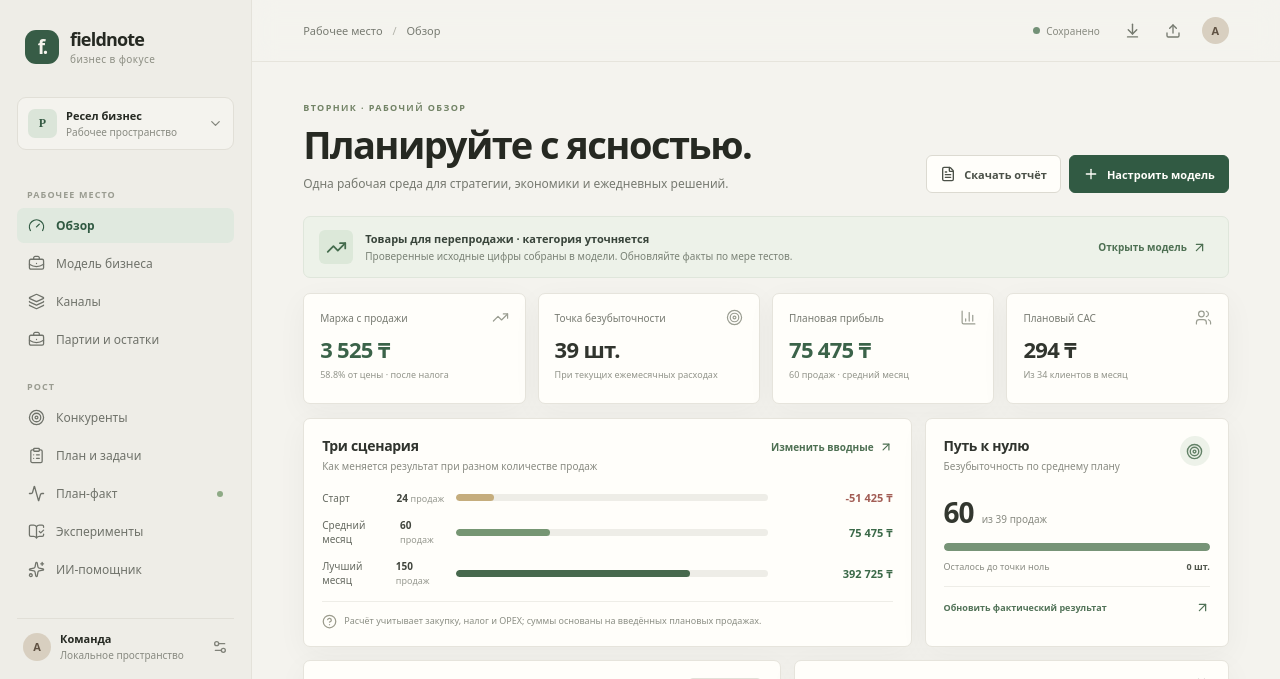
it: FIELDNOTE workspace › opens the resale inventory and shows no fabricated stock figures
Click the button "Партии и остатки": (126, 340) [17,322,234,357]
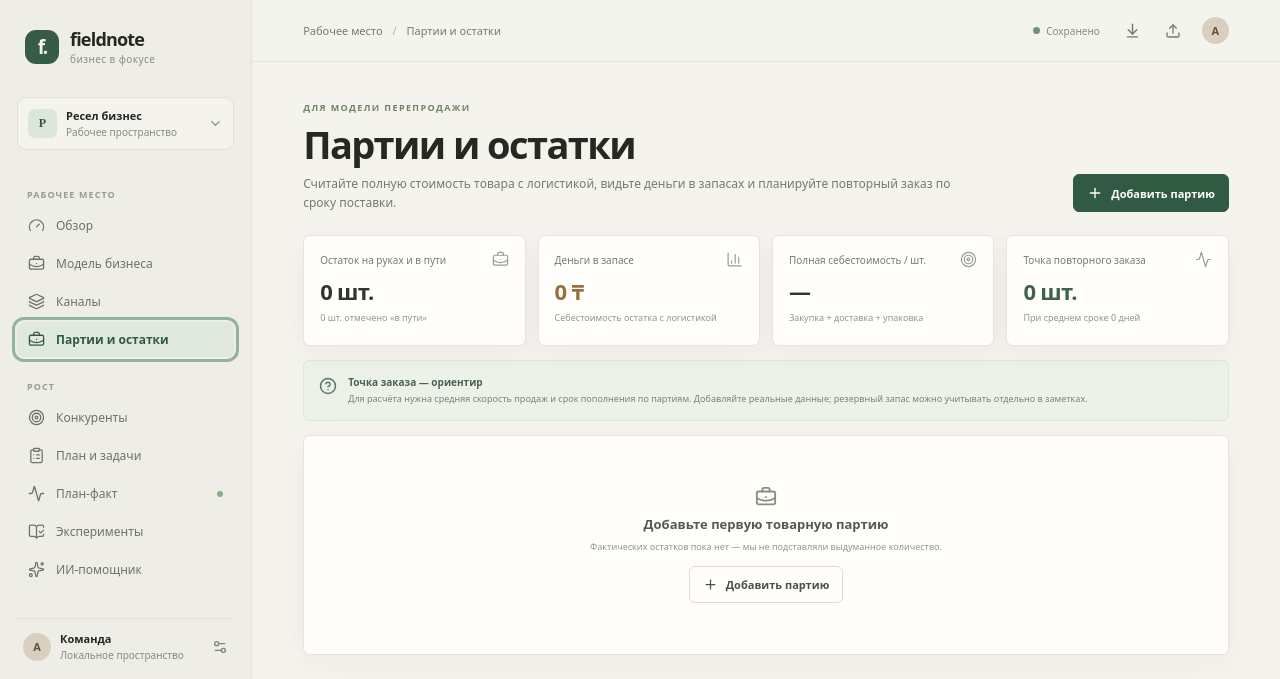
Check: the heading "Партии и остатки" is shown, box [303,118,635,170]
Check: the text "пока нет — мы не подставляли выдуманное количество" is shown, box [590,540,942,554]
